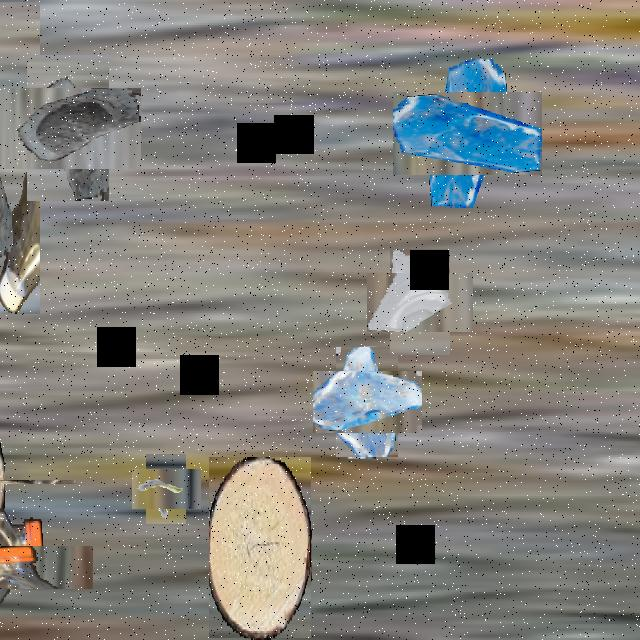glass: (410, 75, 526, 192), (11, 71, 125, 185), (324, 359, 410, 445), (378, 260, 462, 344)
metal: (138, 461, 194, 517)
plastic: (0, 2, 40, 314), (0, 520, 68, 613)
wood: (209, 457, 311, 638), (0, 443, 41, 520)
